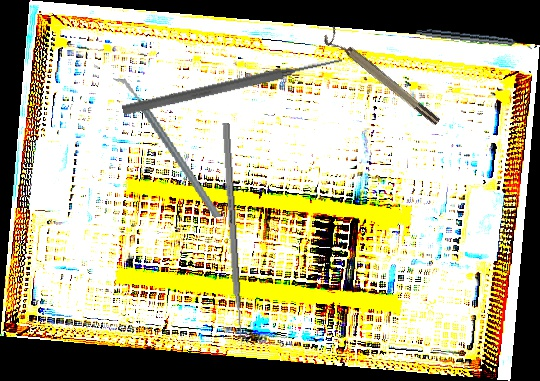Chopper: (112, 63, 222, 232)
Fixation Ring: (321, 26, 442, 132)
Handpiece: (415, 27, 534, 51)
Pusher: (121, 52, 344, 119), (221, 122, 246, 356)
